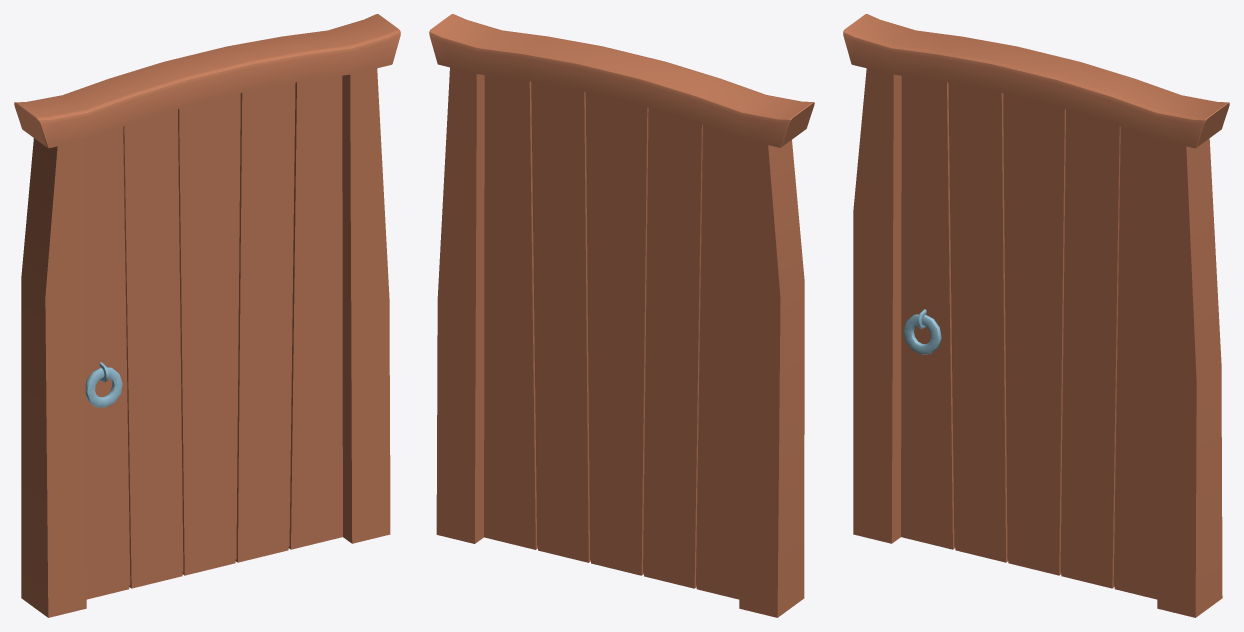
The model's file is Door3.fbx.
3 renders of one model, left to right at view 1: azimuth 30°, elevation 25°; view 2: azimuth 150°, elevation 25°; view 3: azimuth 330°, elevation 25°, orthographic.
Parts seen in each view (by area): view 1: Circle.015; view 2: Circle.015; view 3: Circle.015.
Part boxes in pixels (bbox=[...]): Circle.015: bbox=[14, 14, 400, 617]; Circle.015: bbox=[429, 14, 814, 617]; Circle.015: bbox=[843, 14, 1229, 617].
Bounding box in the file's own units: 106 × 141 × 14.11.
Materials: 1 (1 with a texture image).
